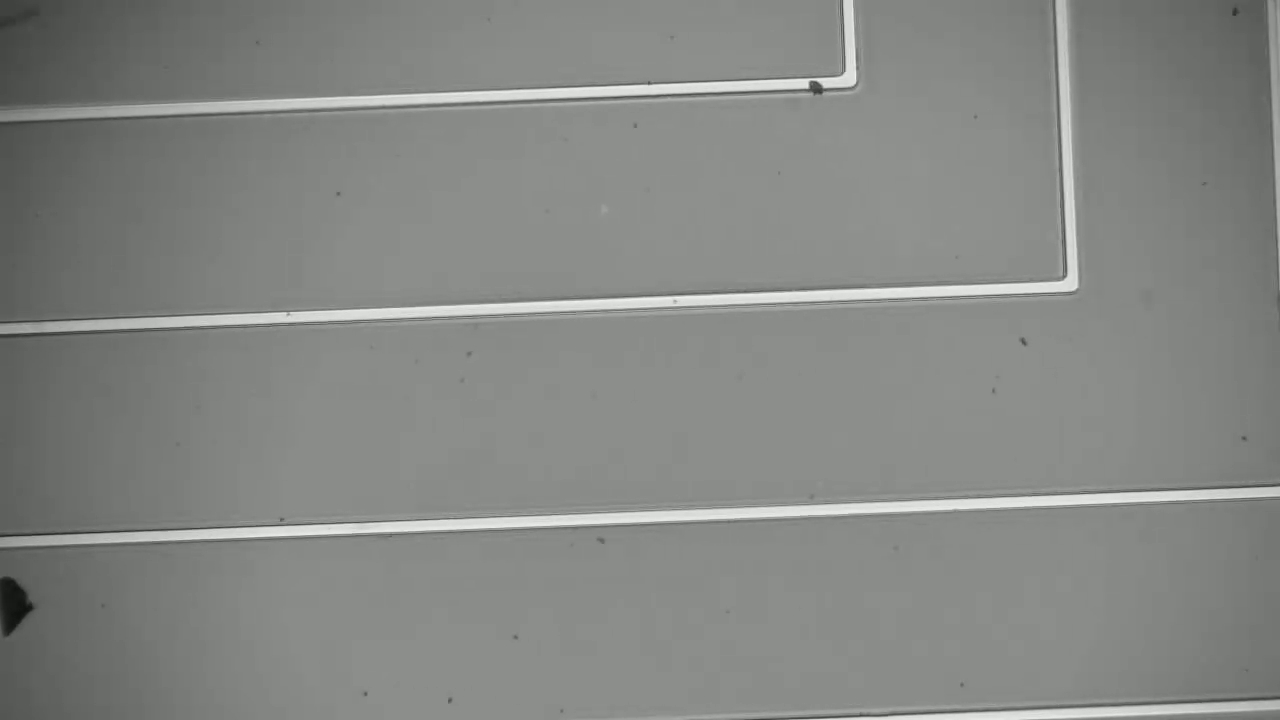stains_enbedded: (797, 67, 836, 103)
